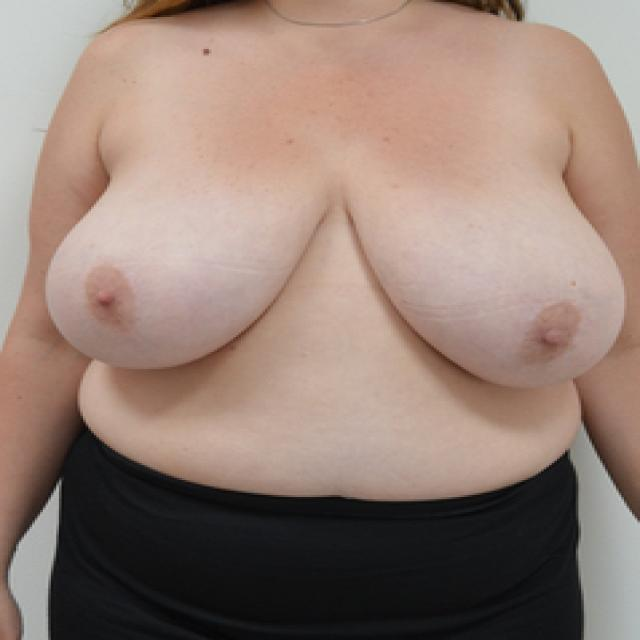Seno ileso: (339, 158, 631, 404), (40, 158, 336, 387)
